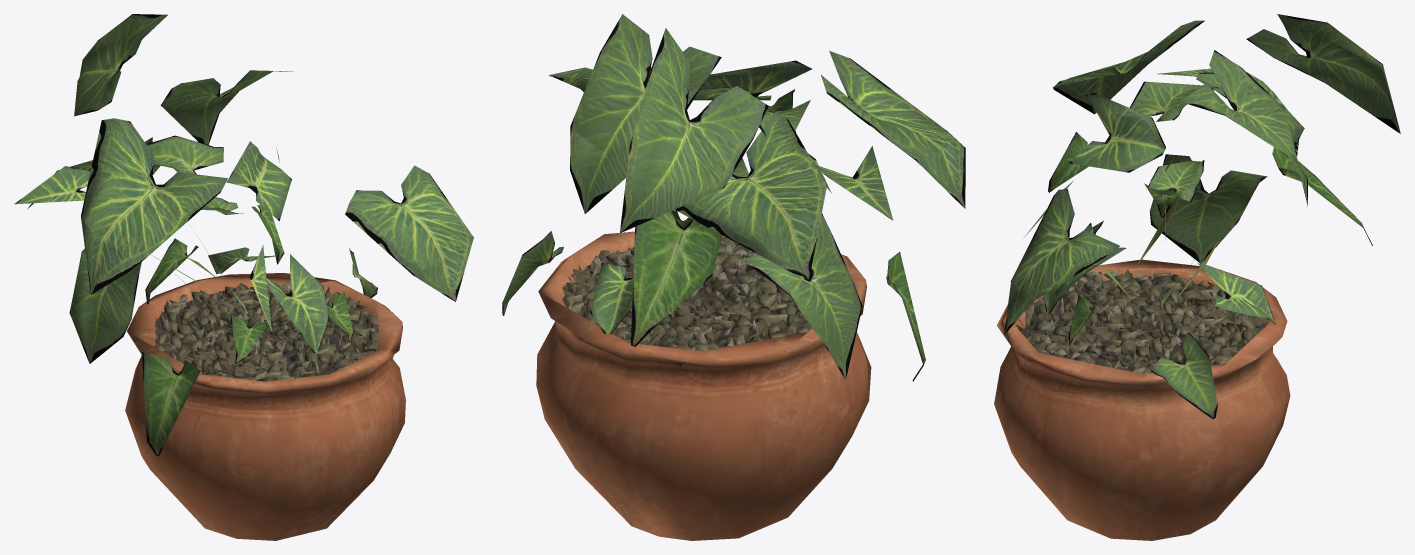
The model's file is potted_plant_02.glb.
3 renders of one model, left to right at view 1: azimuth 30°, elevation 25°; view 2: azimuth 150°, elevation 25°; view 3: azimuth 270°, elevation 25°, orthographic. The views are drawn at different scales.
Parts seen in each view (by area): view 1: potted_plant_02_pot, potted_plant_02_leaves; view 2: potted_plant_02_leaves, potted_plant_02_pot; view 3: potted_plant_02_pot, potted_plant_02_leaves.
Boxes of the visible parts, left/top/right/bottom form: potted_plant_02_pot: left=125, top=273, right=405, bottom=540; potted_plant_02_leaves: left=14, top=14, right=473, bottom=456; potted_plant_02_leaves: left=502, top=14, right=965, bottom=381; potted_plant_02_pot: left=536, top=231, right=871, bottom=540; potted_plant_02_pot: left=994, top=259, right=1290, bottom=540; potted_plant_02_leaves: left=1004, top=14, right=1400, bottom=419.
Size of the model in its own units: 0.6967 by 0.8395 by 0.6481.
Materials: 2 (2 with a texture image).
